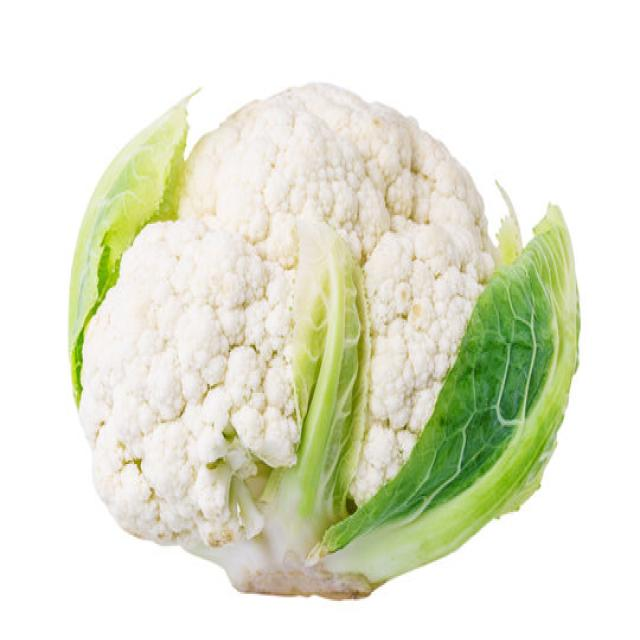Cauliflower: (64, 82, 579, 605)
